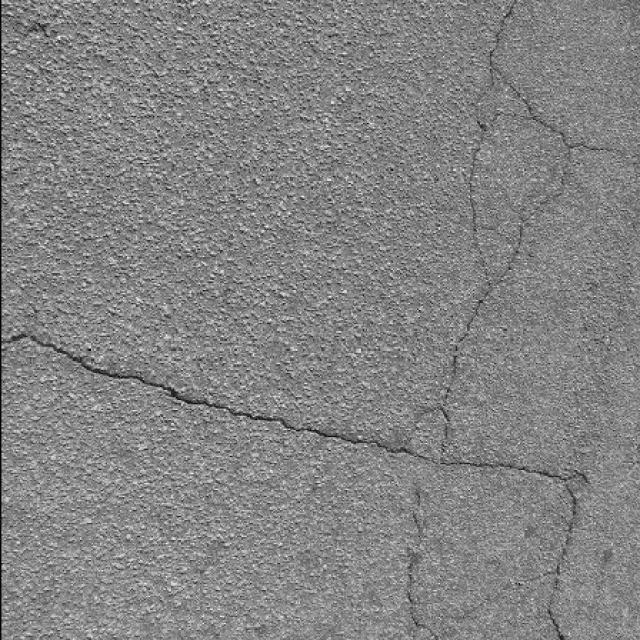Crack: (1, 1, 620, 640)
